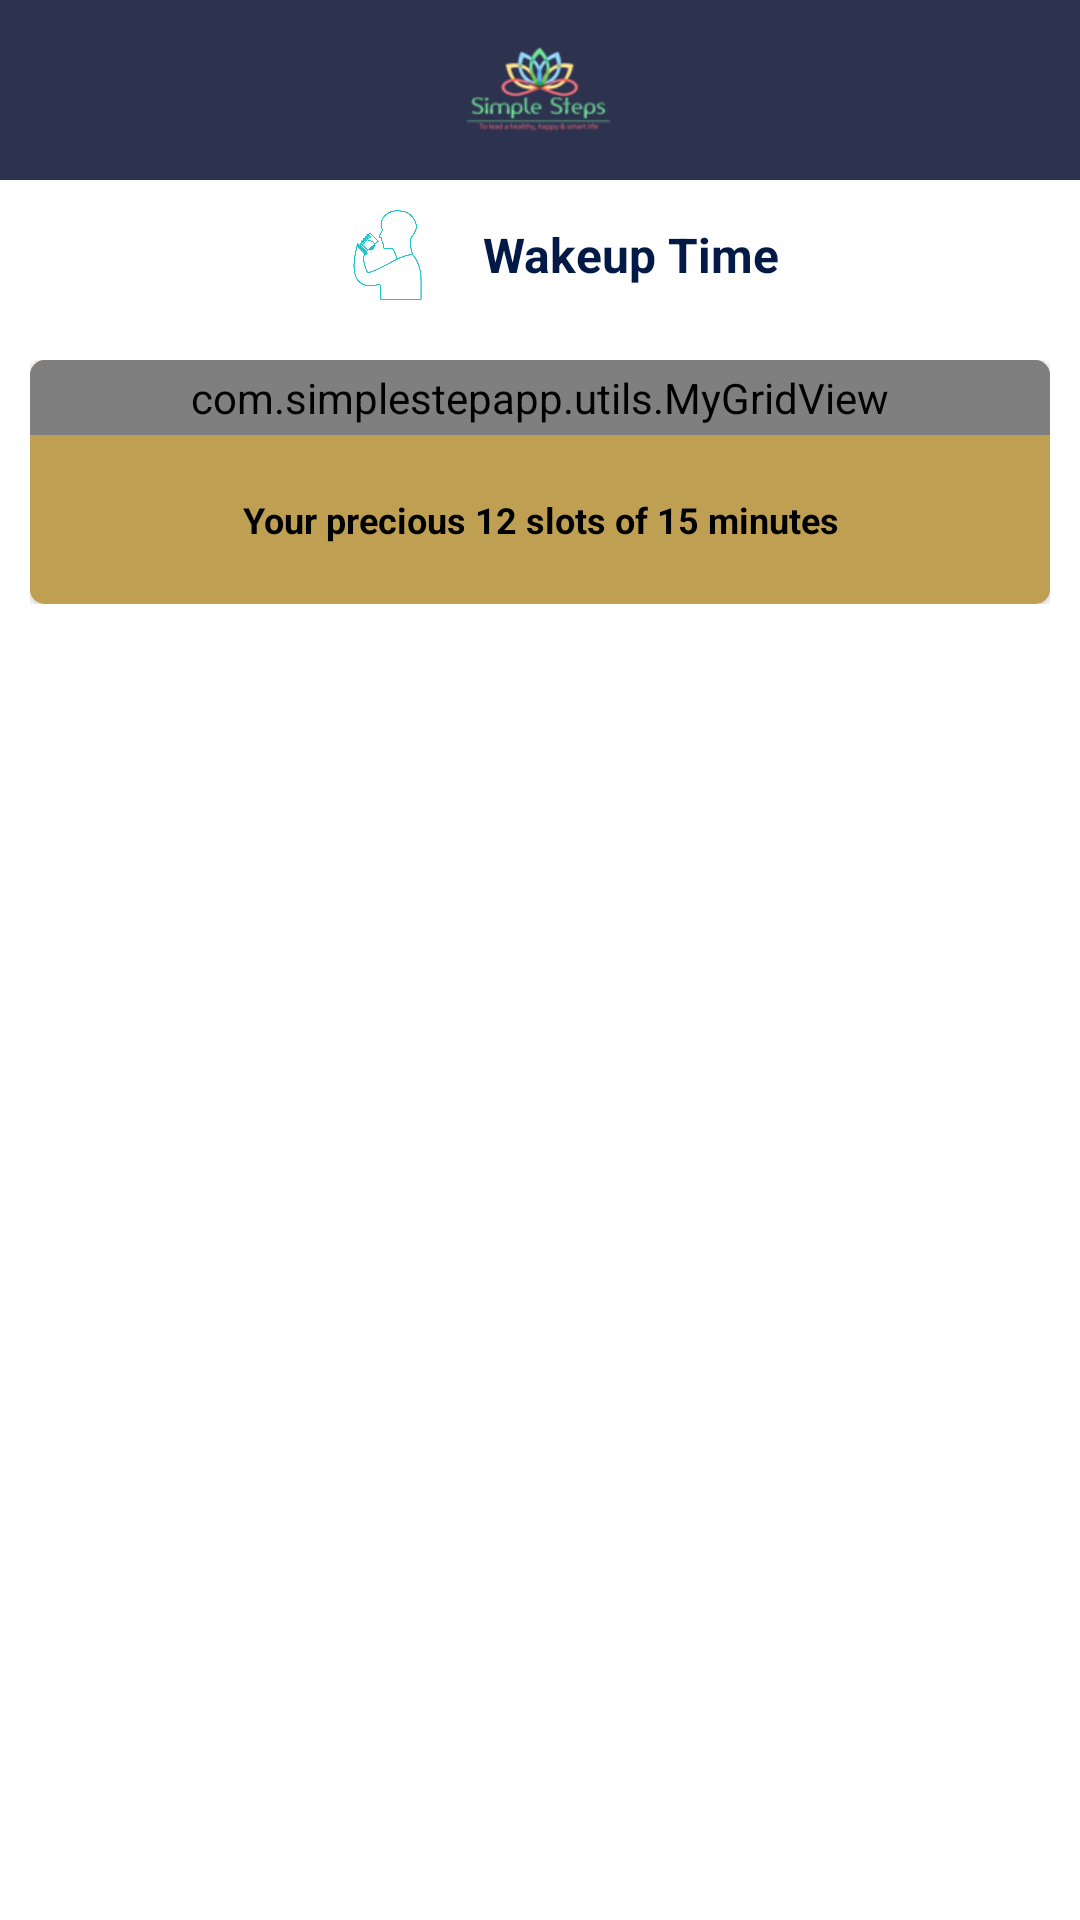

Locate icon controls on the screen. Image size 1080px x 1920px, boxes as [x1=x1, y1=y1, x2=x2, y2=y2].
drining water: [x1=353, y1=210, x2=422, y2=300]
